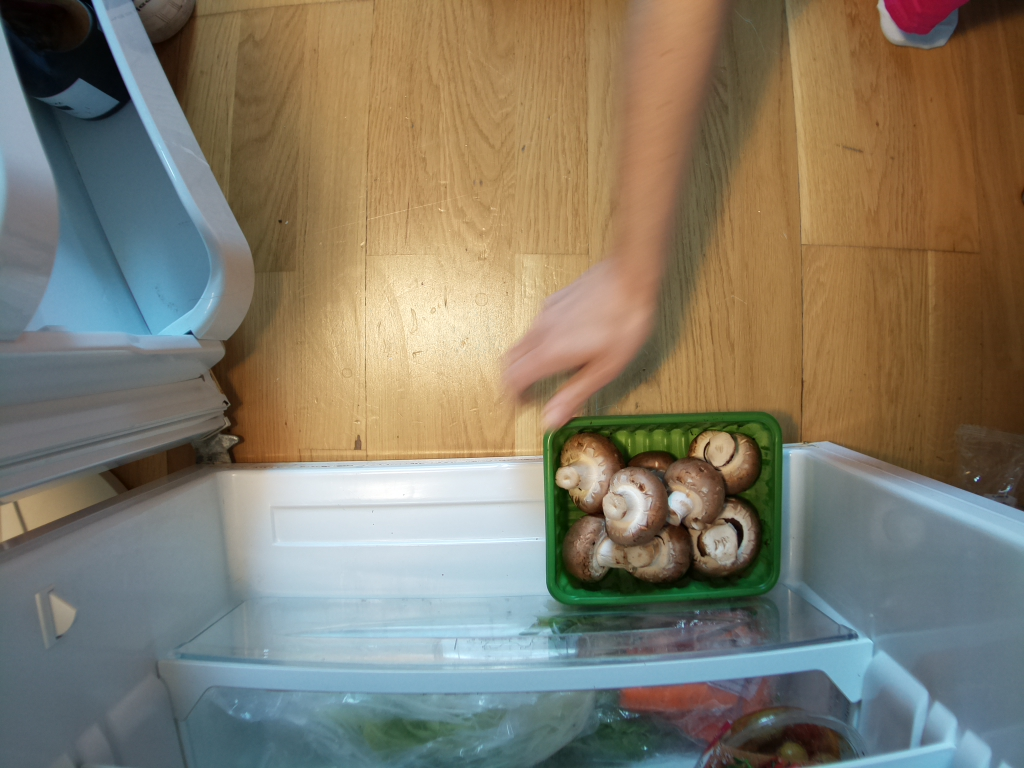mushrooms: (543, 404, 785, 604)
